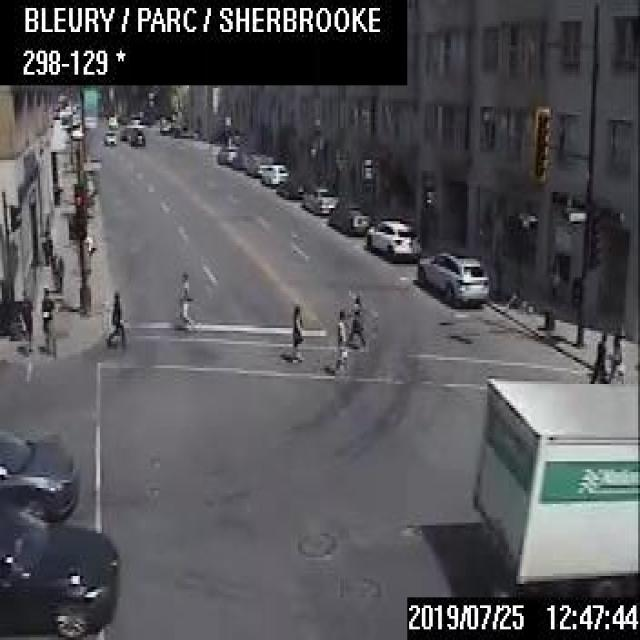pedestrian: (104, 287, 129, 348), (333, 307, 349, 379), (39, 284, 55, 354), (346, 291, 365, 348), (588, 328, 608, 381), (287, 301, 304, 363), (174, 269, 191, 328), (609, 324, 624, 379)
vehicle: (467, 378, 638, 594), (0, 493, 118, 638), (0, 429, 75, 520), (416, 248, 491, 306), (364, 217, 420, 258), (326, 198, 368, 233), (301, 185, 337, 212), (245, 152, 272, 175), (260, 162, 288, 184), (215, 142, 240, 166), (275, 176, 303, 197), (231, 146, 254, 169), (0, 629, 56, 637), (130, 128, 144, 144), (102, 127, 115, 144)
